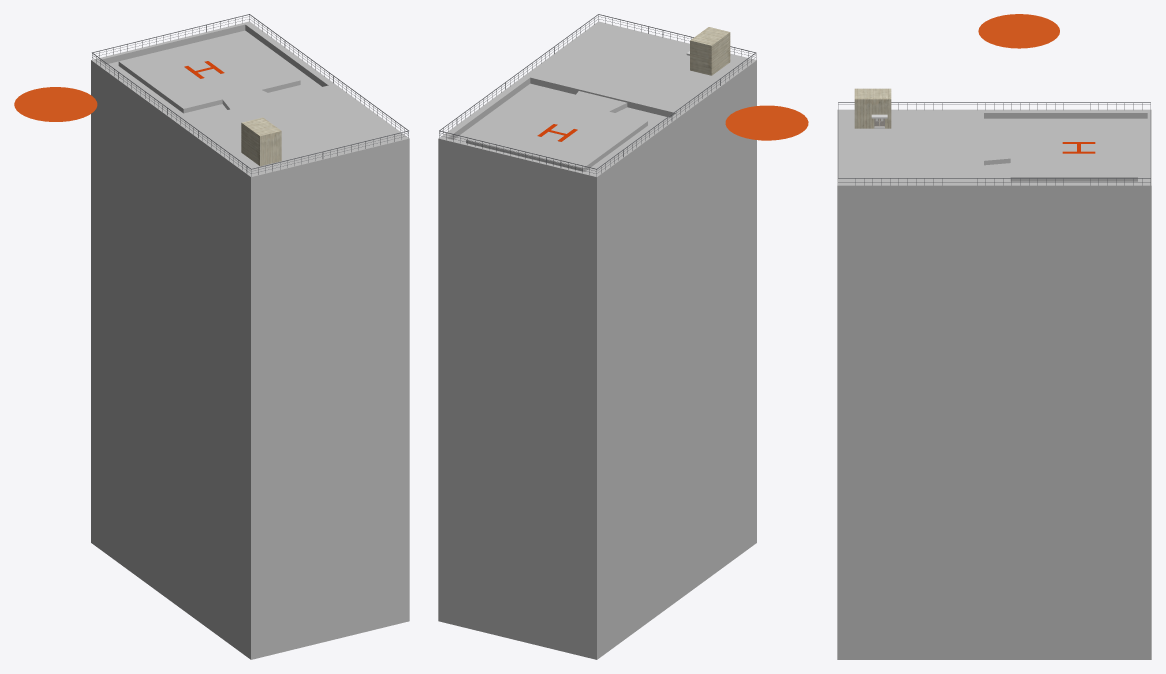
File: door.fbx
The picture shows the model from 3 angles, left to right: view 1: azimuth 30°, elevation 25°; view 2: azimuth 150°, elevation 25°; view 3: azimuth 270°, elevation 25°; orthographic projection.
Parts seen in each view (by area): view 1: 立方体.006, iiiiiii, 立方体.001; view 2: 立方体.006, iiiiiii, 立方体.001; view 3: 立方体.006, iiiiiii, 立方体.001.
Boxes of the visible parts, x1,y1,x2,y2 form: 立方体.006: (91,21,409,659); iiiiiii: (14,87,97,121); 立方体.001: (241,117,281,166); 立方体.006: (438,21,756,659); iiiiiii: (725,105,808,140); 立方体.001: (690,27,730,75); 立方体.006: (837,109,1151,659); iiiiiii: (978,14,1059,48); 立方体.001: (854,88,891,128).
Bounding box in the file's own units: 37487 × 61802 × 34958.
